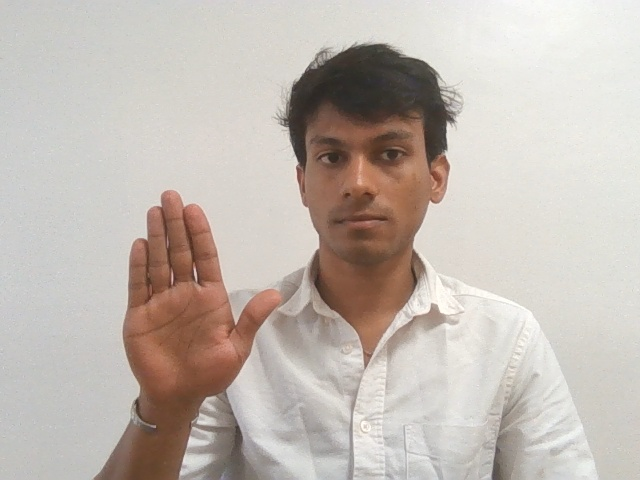Hello: (115, 188, 282, 431)
